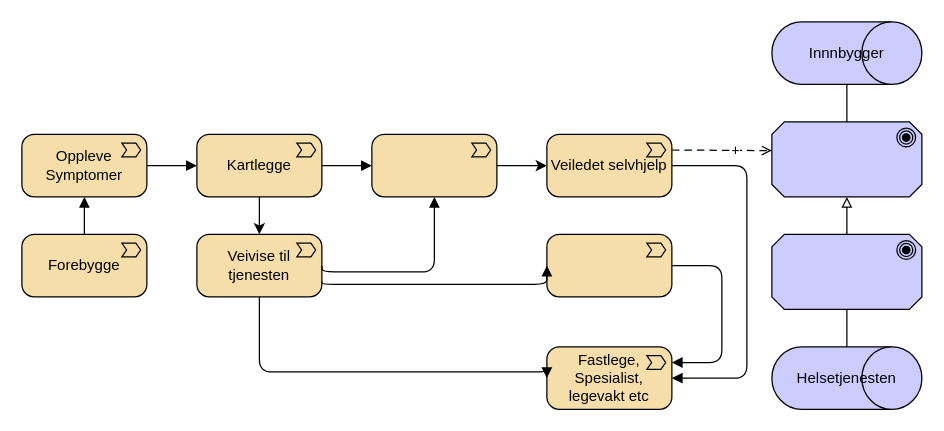
This 944x431 diagram has some shape labels left out. Each missing label, with the box of its shape:
Behandling på lavest mulig omsorgsnivå: (771, 233, 922, 309)
Egenmestre: (371, 133, 497, 197)
Henvise /medisinere: (546, 233, 672, 297)
Rask behandling på riktig omsorgsnivå: (771, 121, 922, 197)
